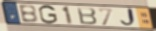1: (62, 5, 76, 26)
7: (98, 7, 115, 27)
B: (76, 6, 99, 26), (18, 4, 40, 24)
G: (38, 4, 59, 25)
J: (120, 7, 139, 28)
